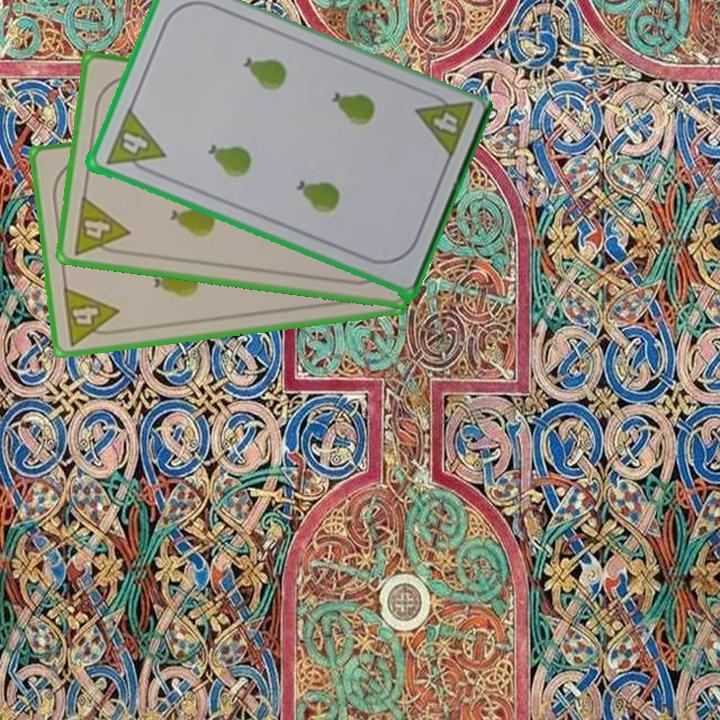4p: (410, 86, 476, 164), (102, 106, 167, 179), (59, 283, 124, 348), (69, 192, 132, 259)
